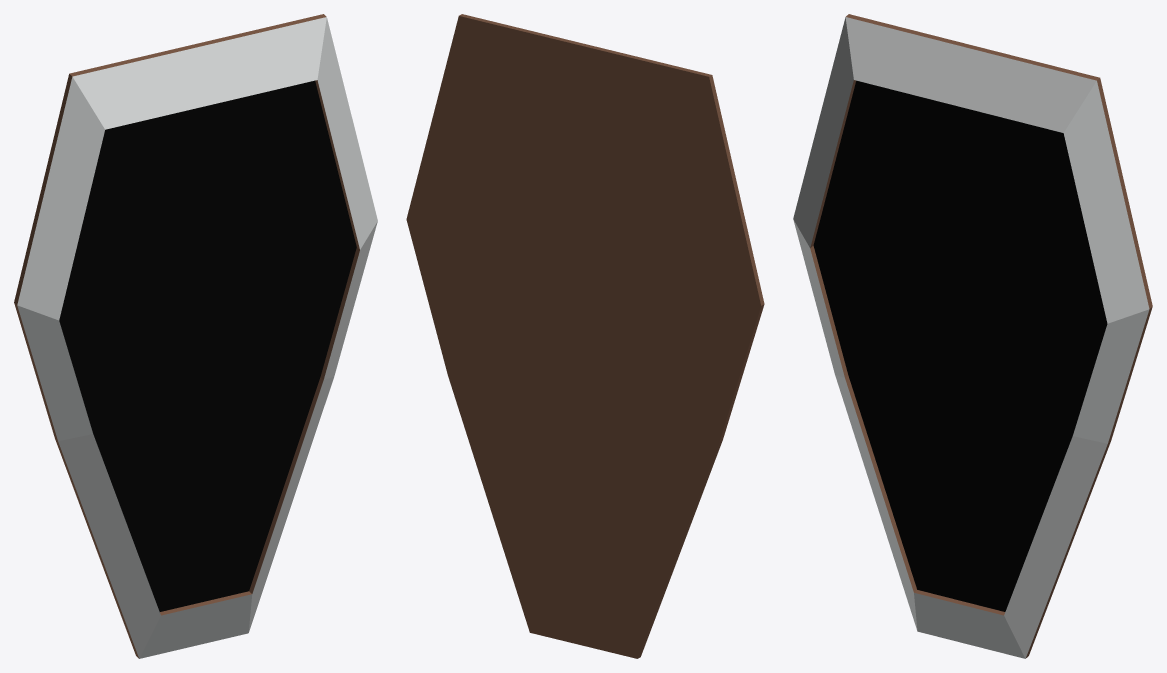
Rendered from Shield.fbx.
3 views of the same model, side by side, from view 1: azimuth 30°, elevation 25°; view 2: azimuth 150°, elevation 25°; view 3: azimuth 330°, elevation 25° (orthographic).
Visible parts, largest first — view 1: Shield; view 2: Shield; view 3: Shield.
Boxes of the visible parts, box(x1,y1,x2,y2) form: Shield: box(14, 14, 377, 658); Shield: box(406, 14, 764, 658); Shield: box(793, 14, 1152, 658).
Bounding box in the file's own units: 370 × 593 × 34.08.
